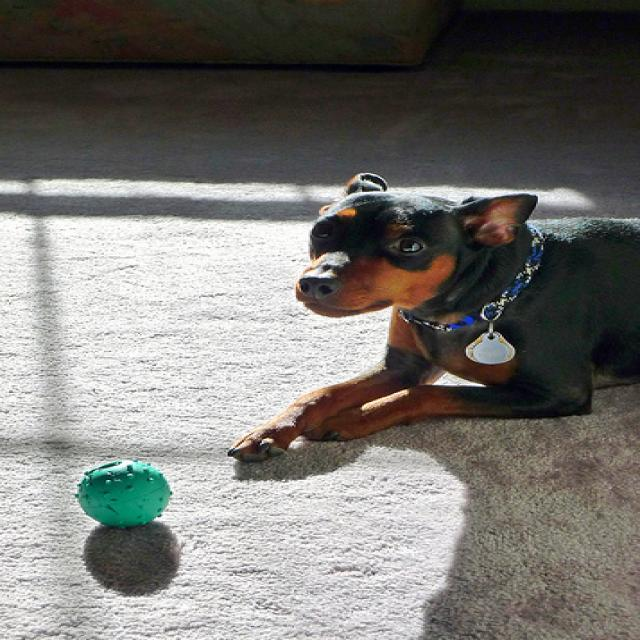dog-miniature_pinscher: (213, 168, 636, 468)
